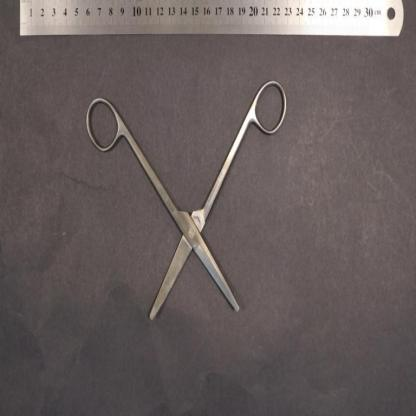Curved Mayo Scissors: (85, 80, 288, 321)
